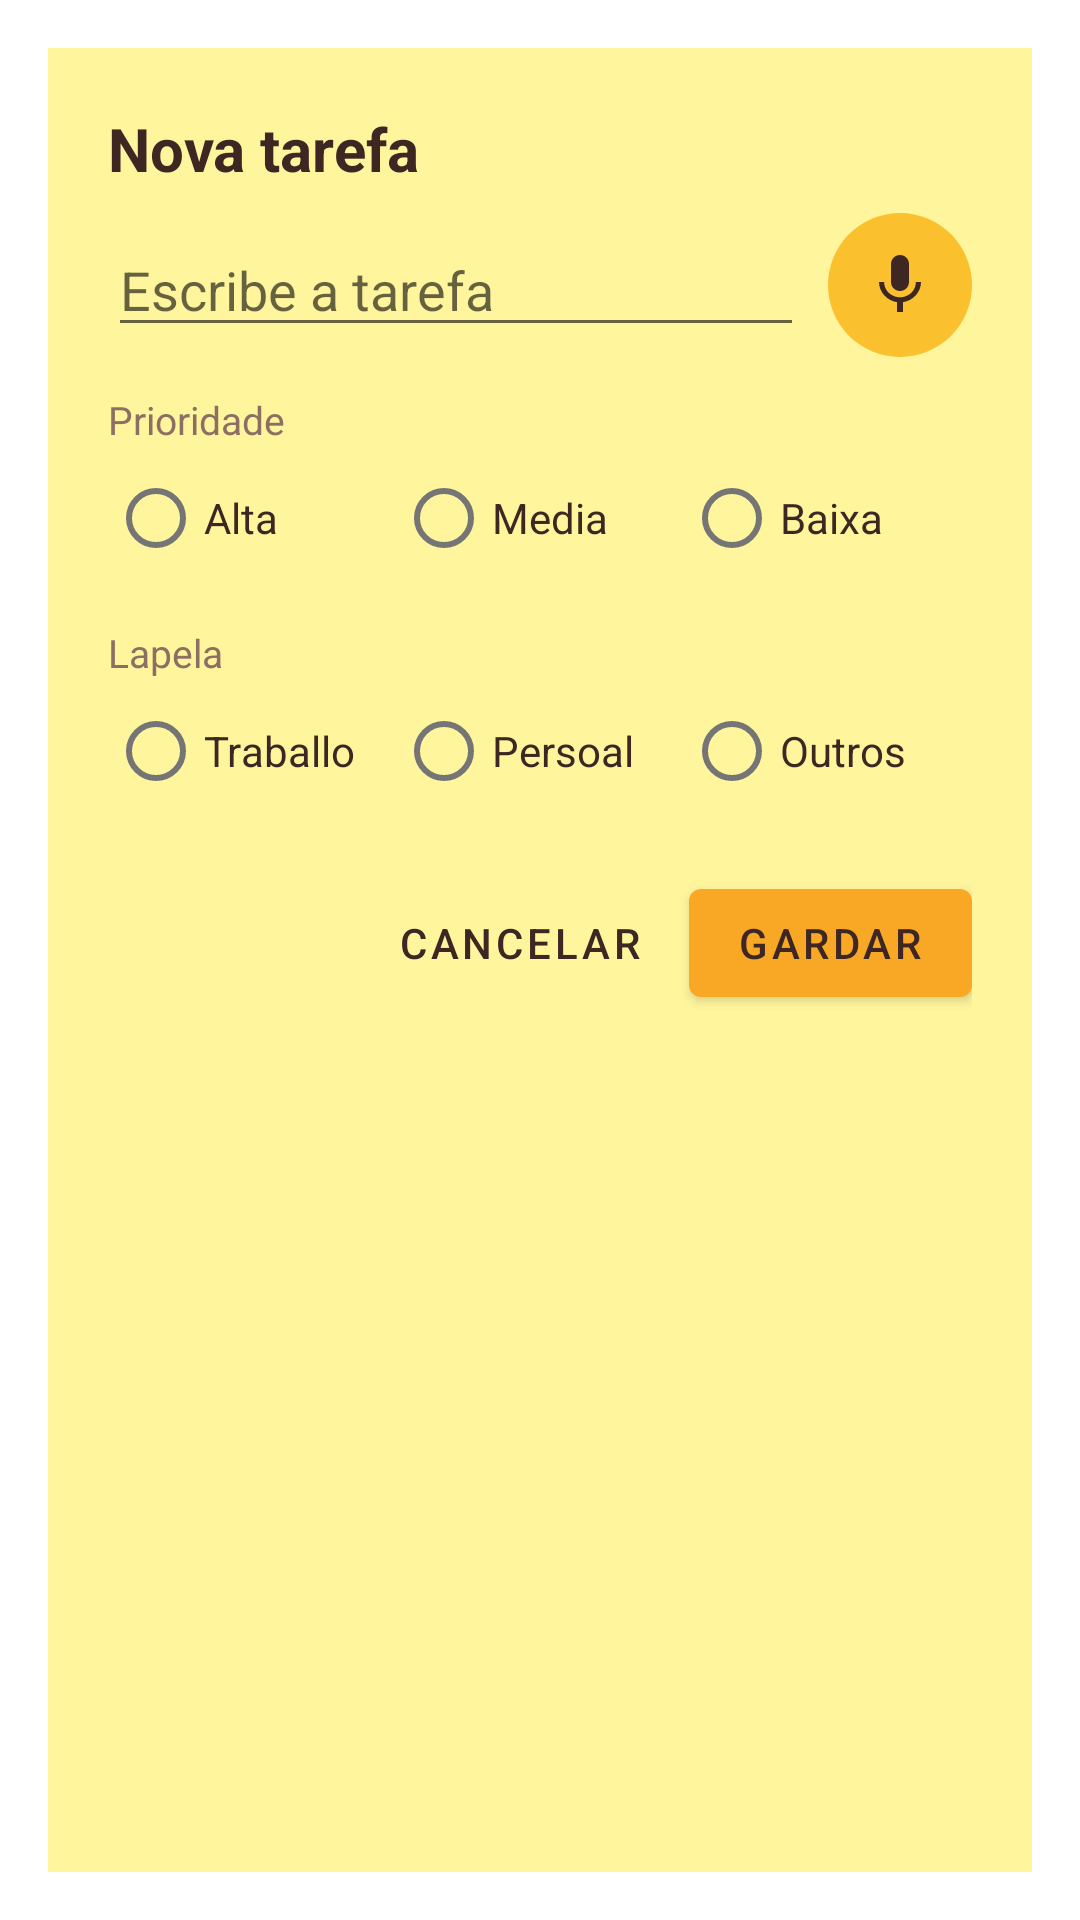

Named icons in this screenshot (1080×1920) and their centers, [x,y]:
Ditar tarefa: [876,261]
